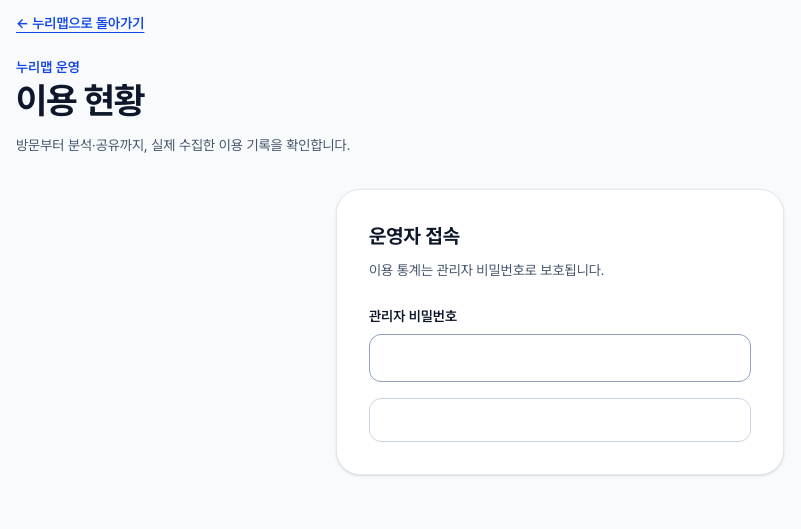
Test: UsageDashboard › keeps an incorrect password private and allows another attempt
Type "wrong-password" into the password field labelled "관리자 비밀번호" at [560, 358], box [369,334,751,382]
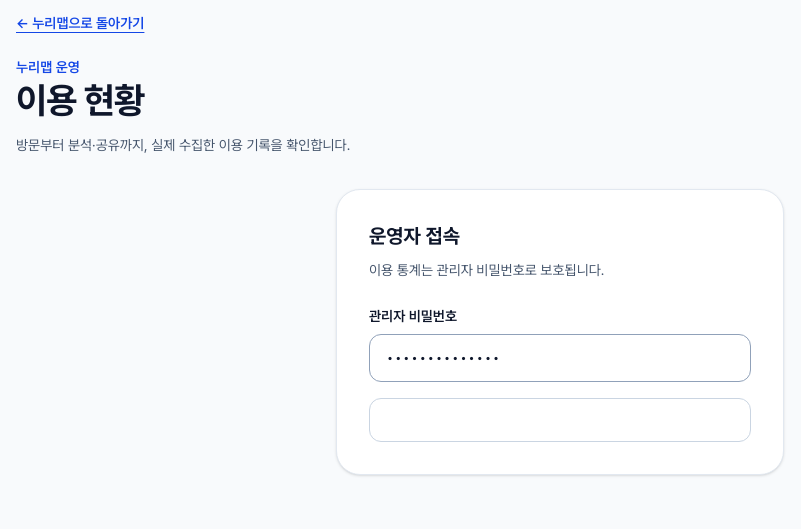
Click the button "대시보드 열기" at [560, 420], box [369,398,751,442]
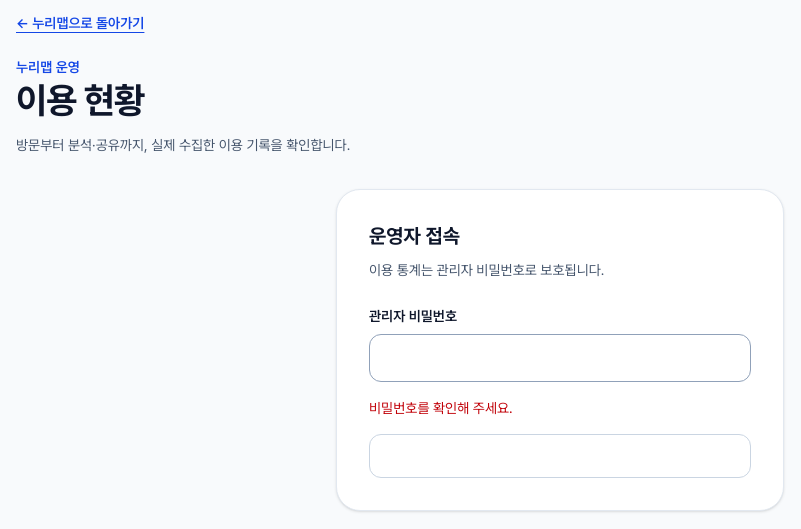
expect the text "비밀번호를 확인해 주세요." is shown: met, box [369,400,513,416]
expect the password field labelled "관리자 비밀번호" is empty: met, box [369,334,751,382]
